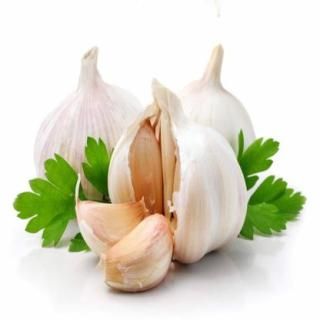Bawang Putih: (108, 78, 249, 265), (73, 196, 174, 293)
